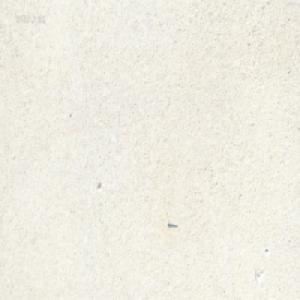Nail: (167, 220, 178, 228)
